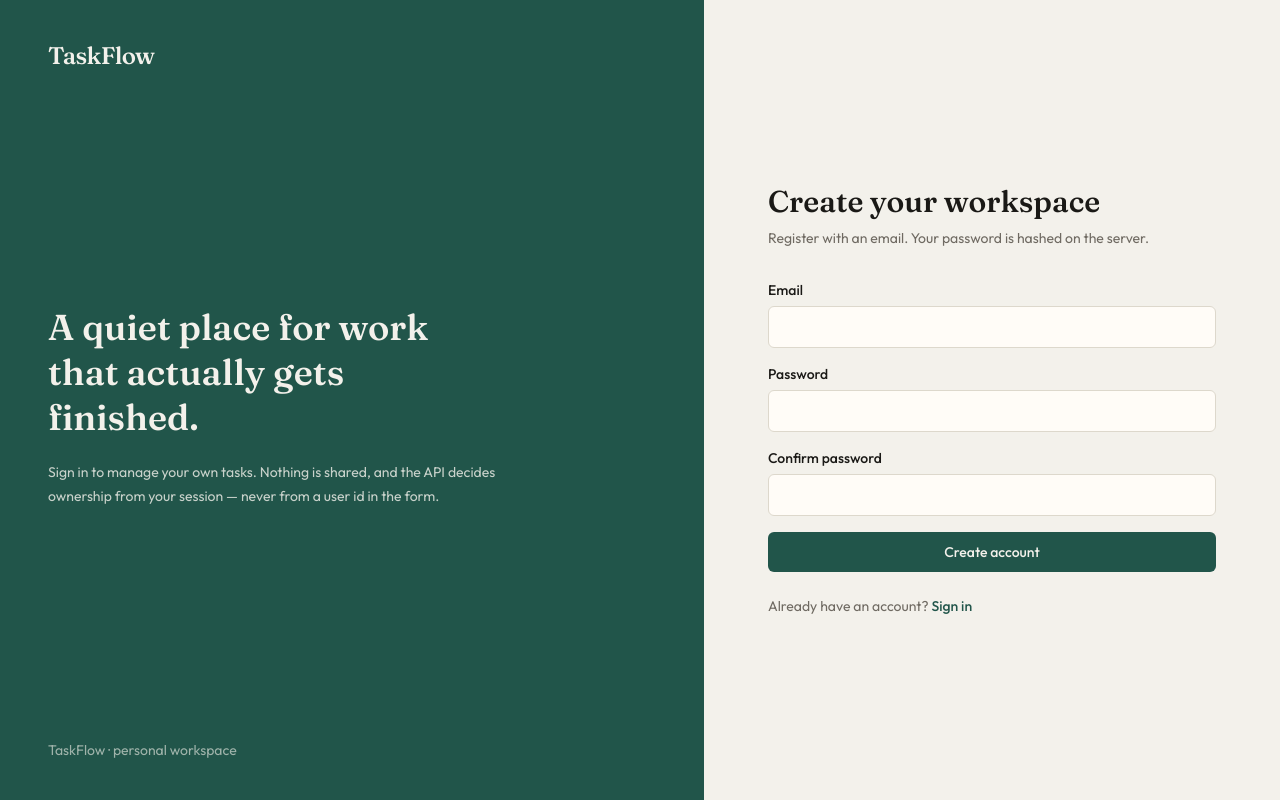
Test: RegisterPage › requires matching passwords
Type "rijon@example.com" into the field labelled "Email" at (992, 327), box [768, 306, 1216, 348]
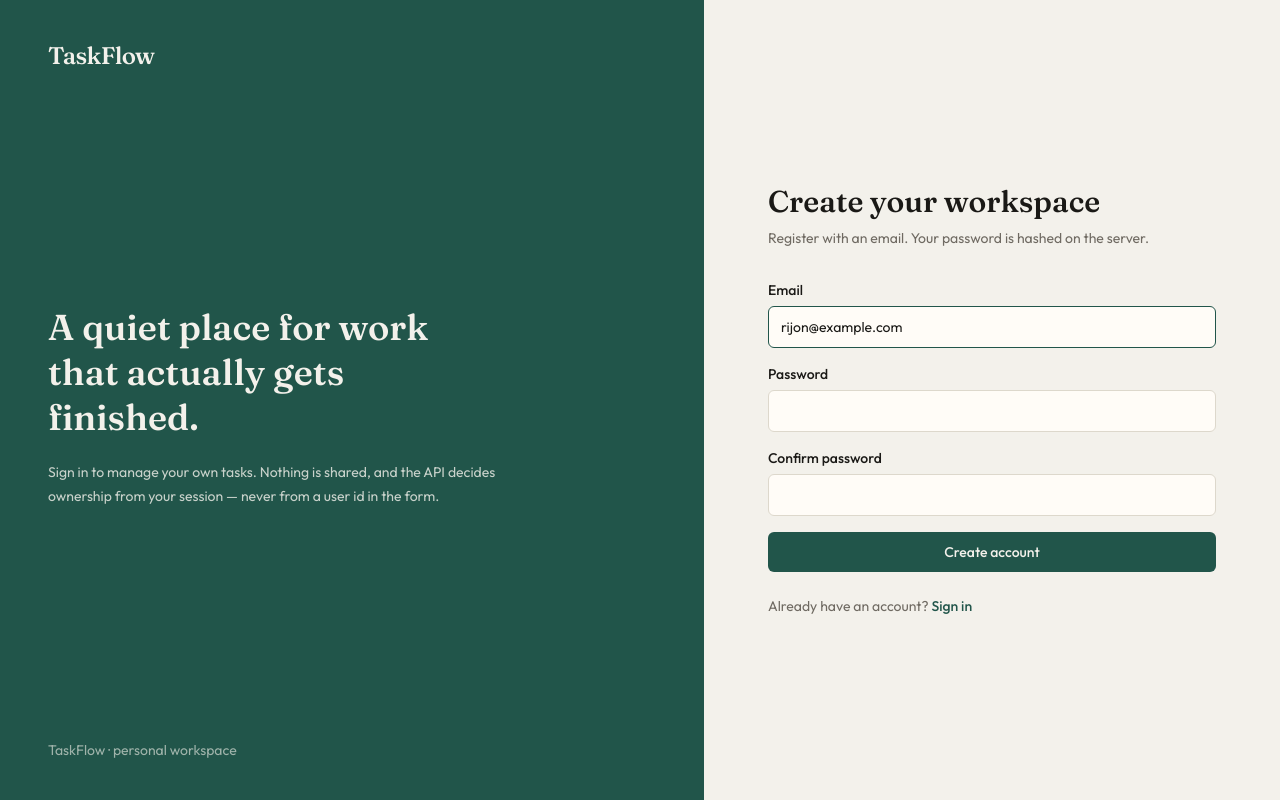
Type "password123" into the password field labelled "Password" at (992, 411), box [768, 390, 1216, 432]
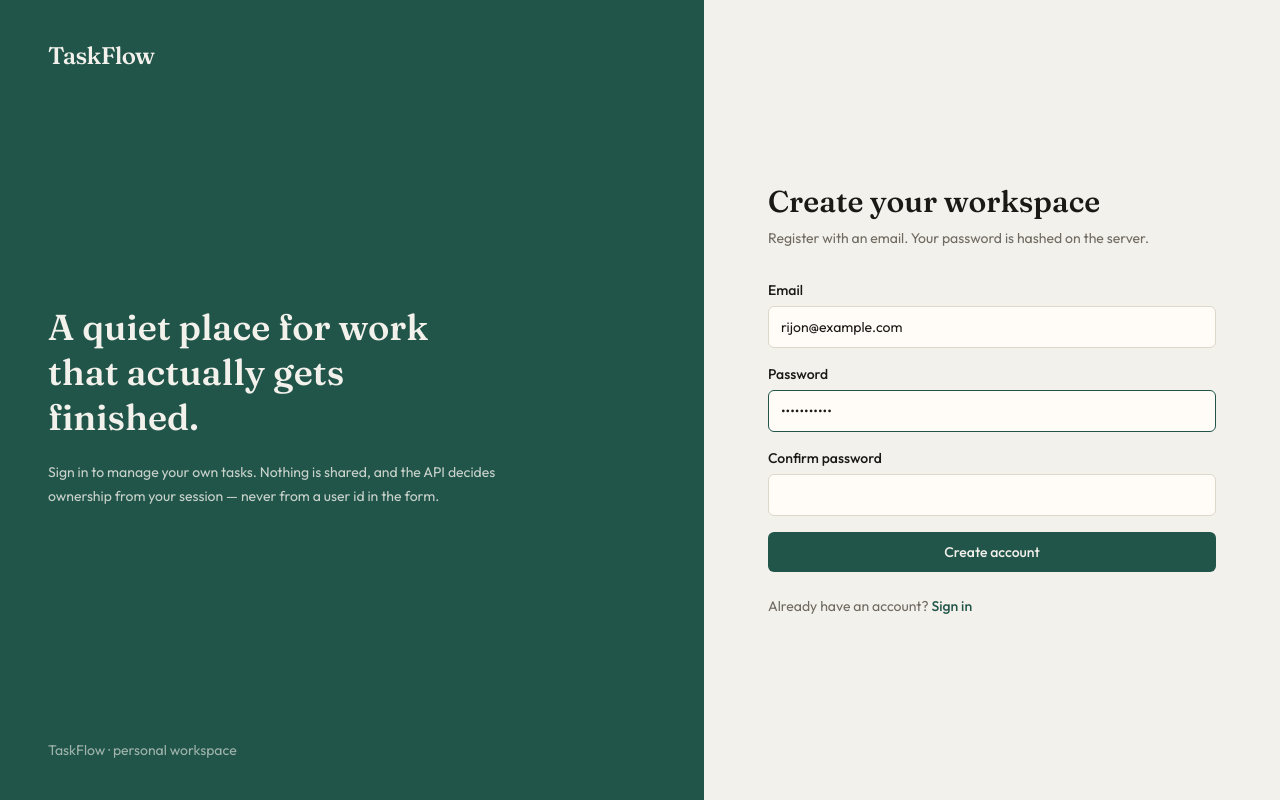
Type "different" into the password field labelled "Confirm password" at (992, 495), box [768, 474, 1216, 516]
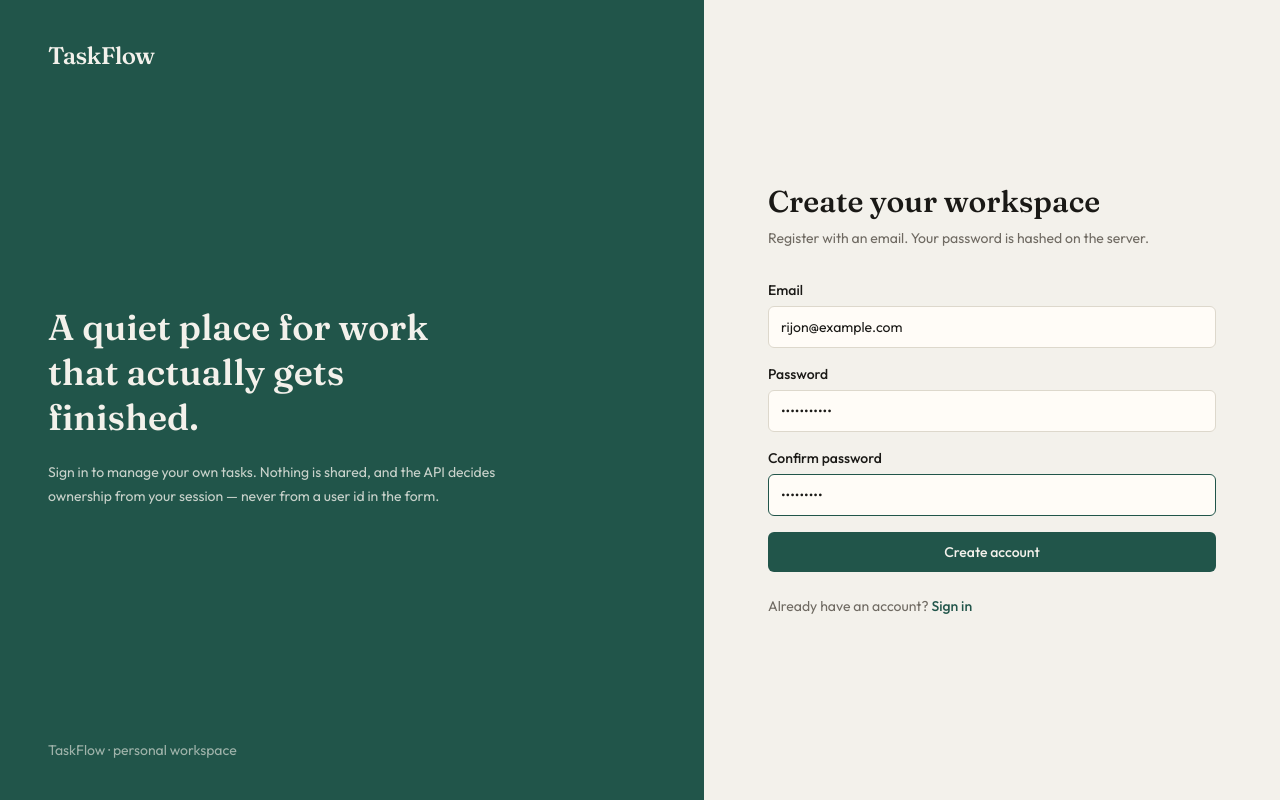
Click the button "Create account" at (992, 552), box [768, 532, 1216, 572]
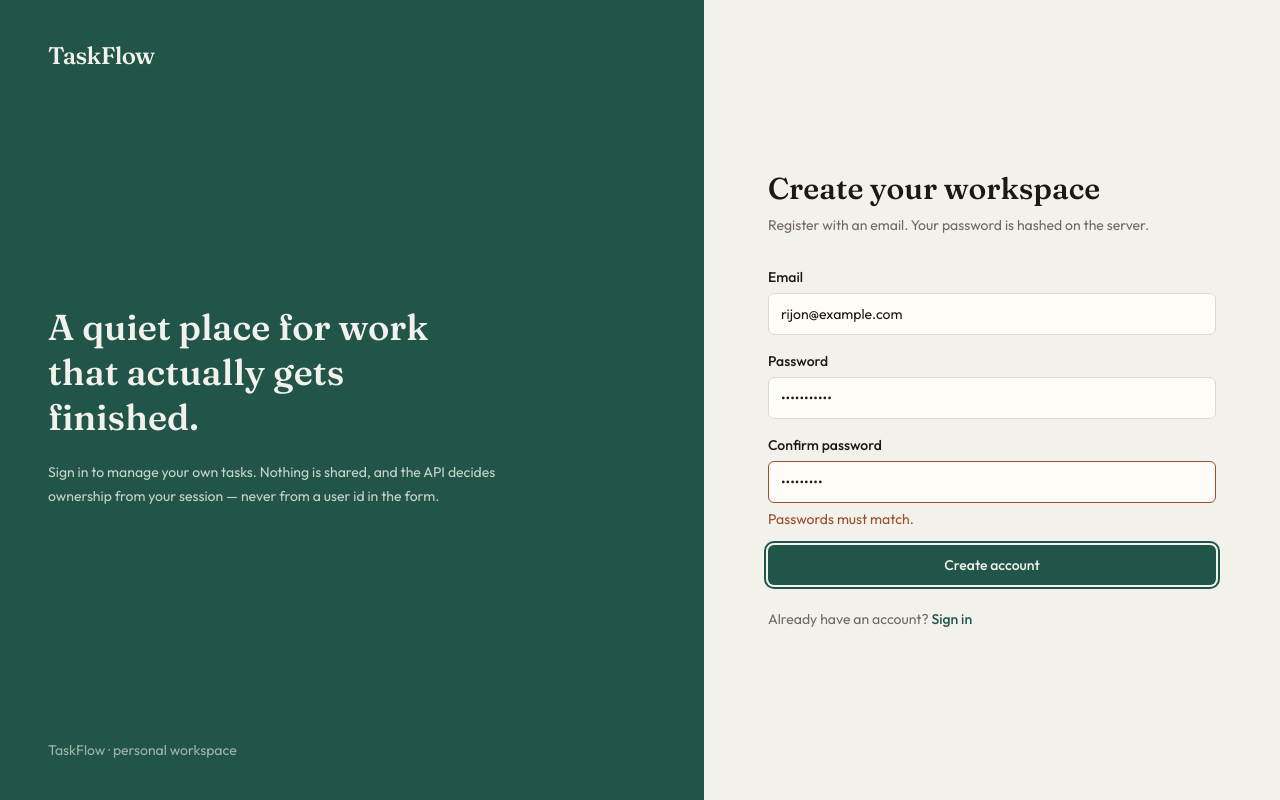
Check: the text "Passwords must match." is shown, box [768, 510, 914, 528]
